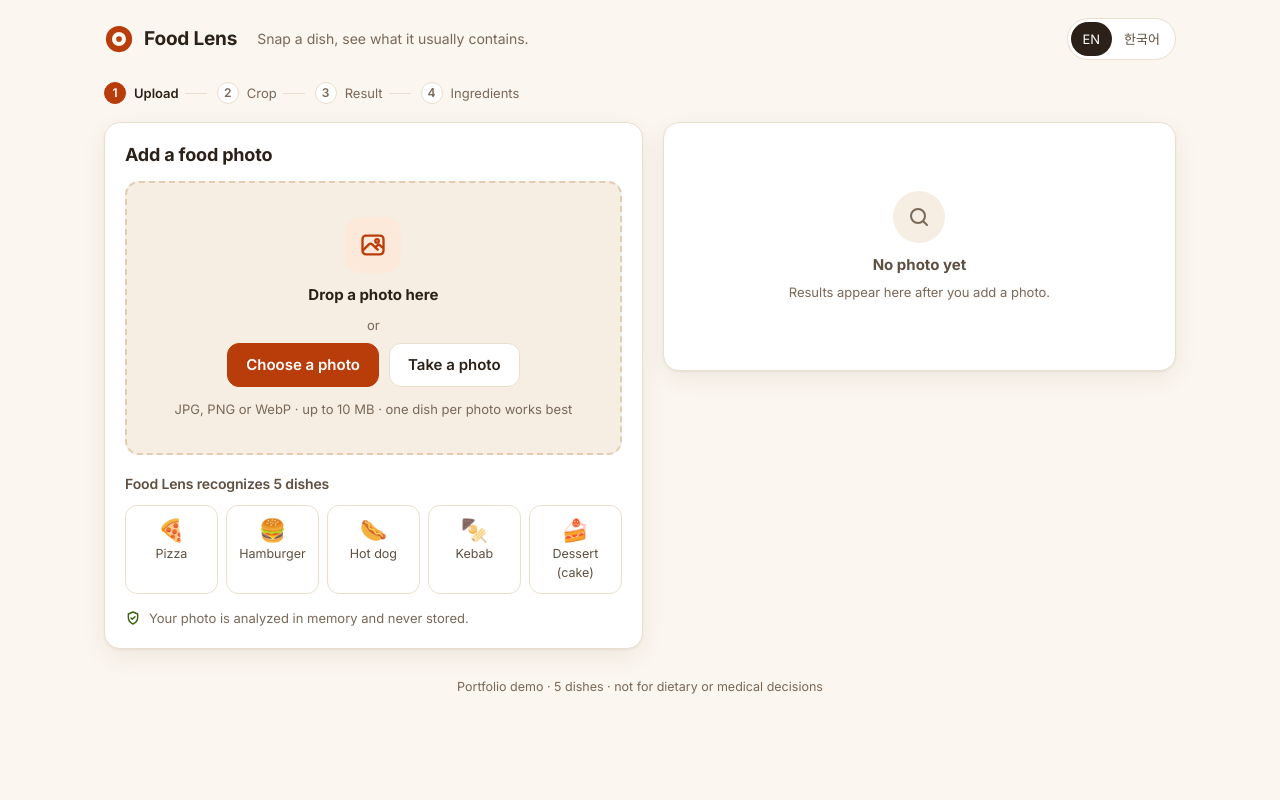
Test case: review fixes › 2) a throwing localStorage getter: English page, language switch still works
The width and height of the screenshot is (1280, 800).
Expected: the heading "Add a food photo" is shown, [125,144,272,165]
Click the button "한국어": (1142, 39) [1112,22,1172,56]
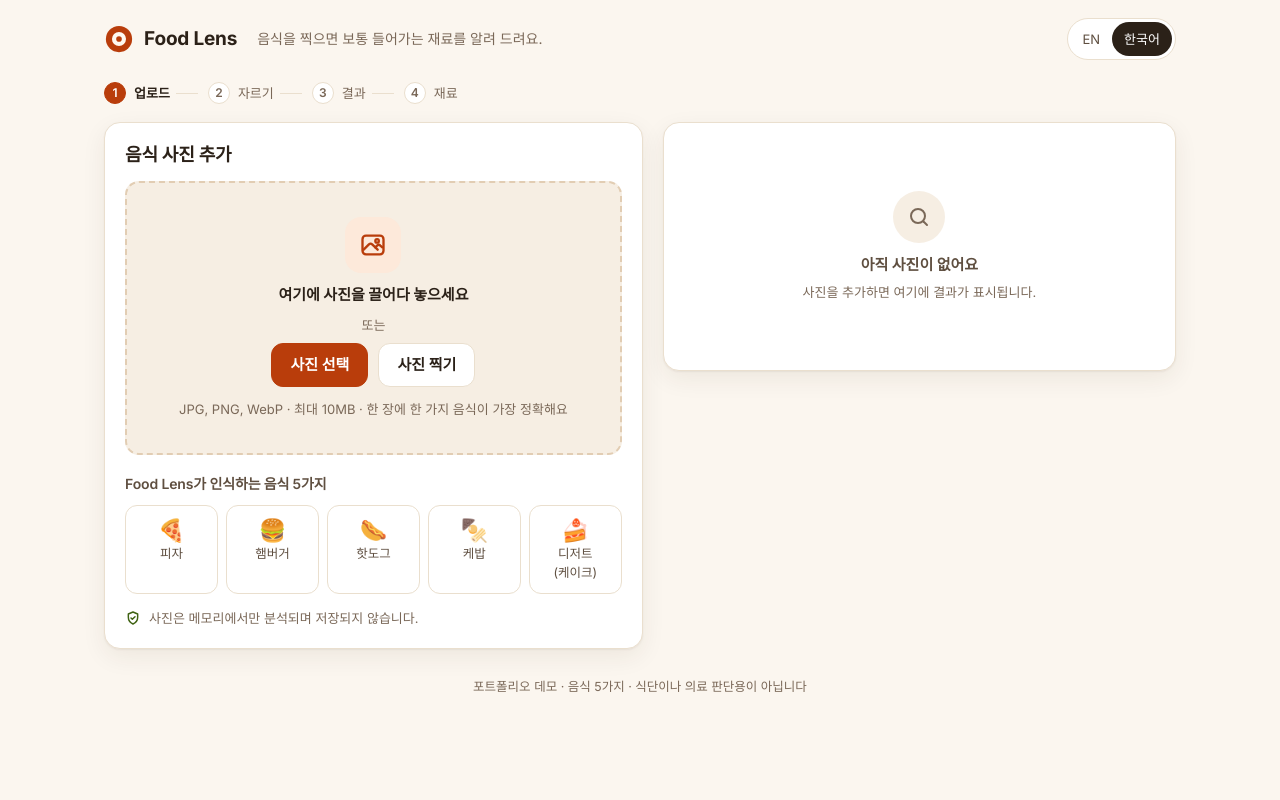
Expected: the heading "음식 사진 추가" is shown, [125,144,232,165]
